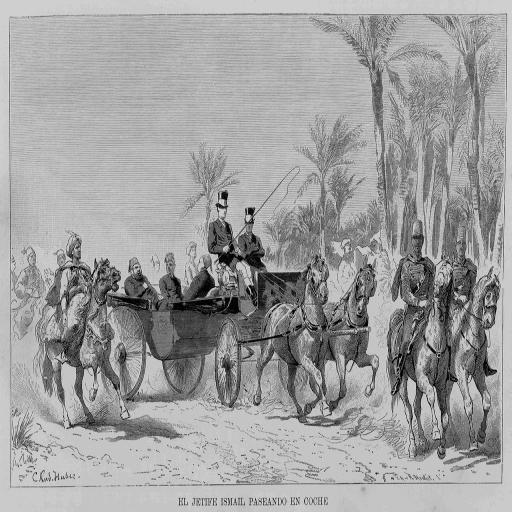horse: (34, 260, 132, 432), (276, 258, 382, 410), (382, 251, 456, 457), (252, 254, 332, 416), (436, 265, 502, 456)
